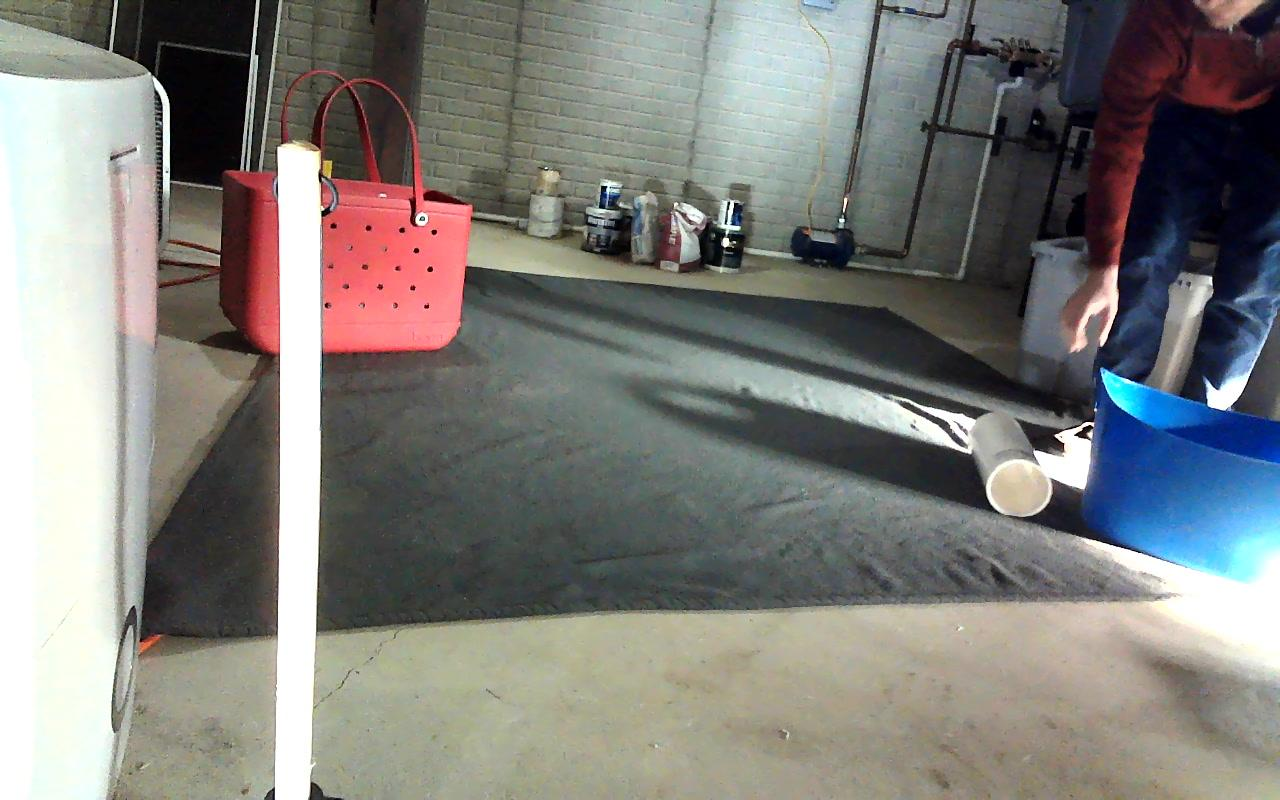coral: (973, 410, 1088, 515)
